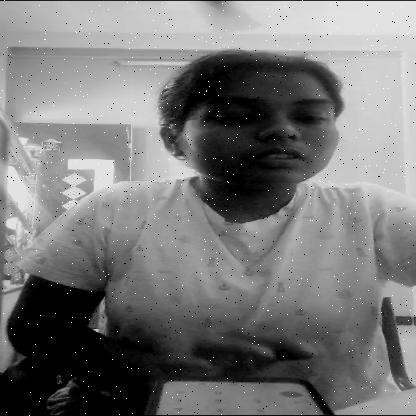Distracted: (134, 62, 358, 183)
